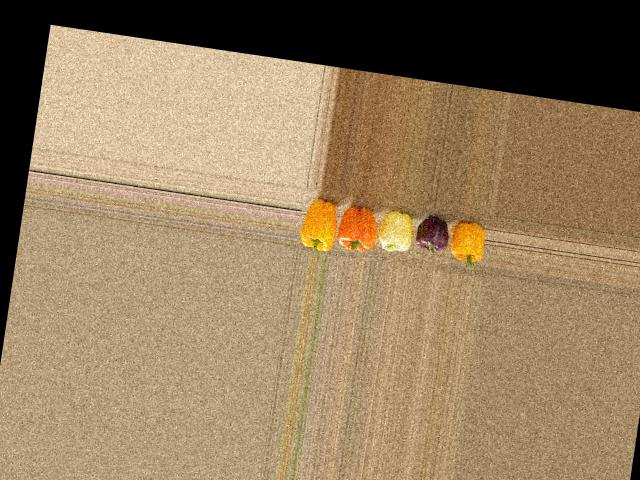bell_pepper: (450, 212, 492, 272)
